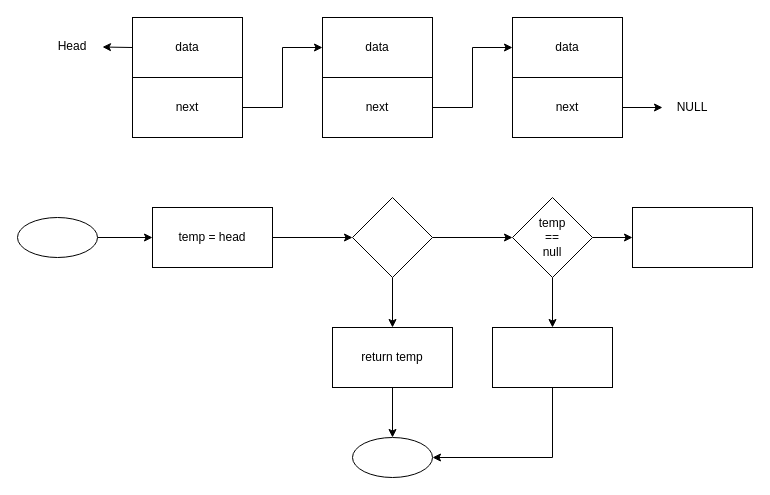
Some shapes in this 770 by 495 pixel diagram are drawn without their labels. Each missing label, with the centre of its shape:
end: point (392, 457)
i == index: point (392, 237)
return null: point (552, 357)
start: point (57, 237)
temp = temp->next; i++: point (692, 237)
